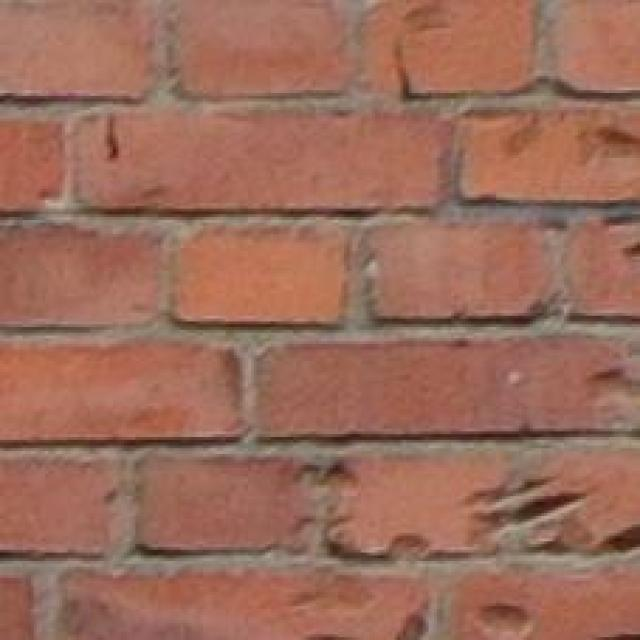Crack: (377, 468, 640, 607)
